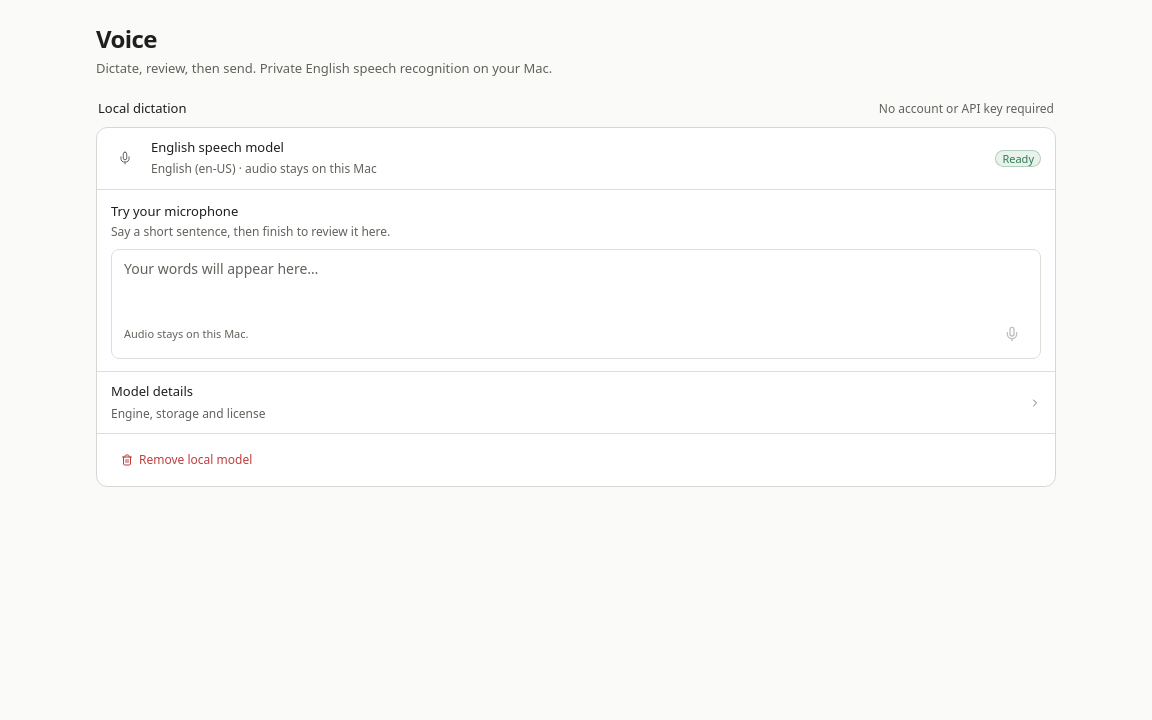
Test: refreshes composer availability when installed speech is discovered on opening settings
Check: the text "sherpa-onnx" is not shown
Click the button "Model details Engine, storage and license". click: [152, 391]
box: [97,372,1055,434]
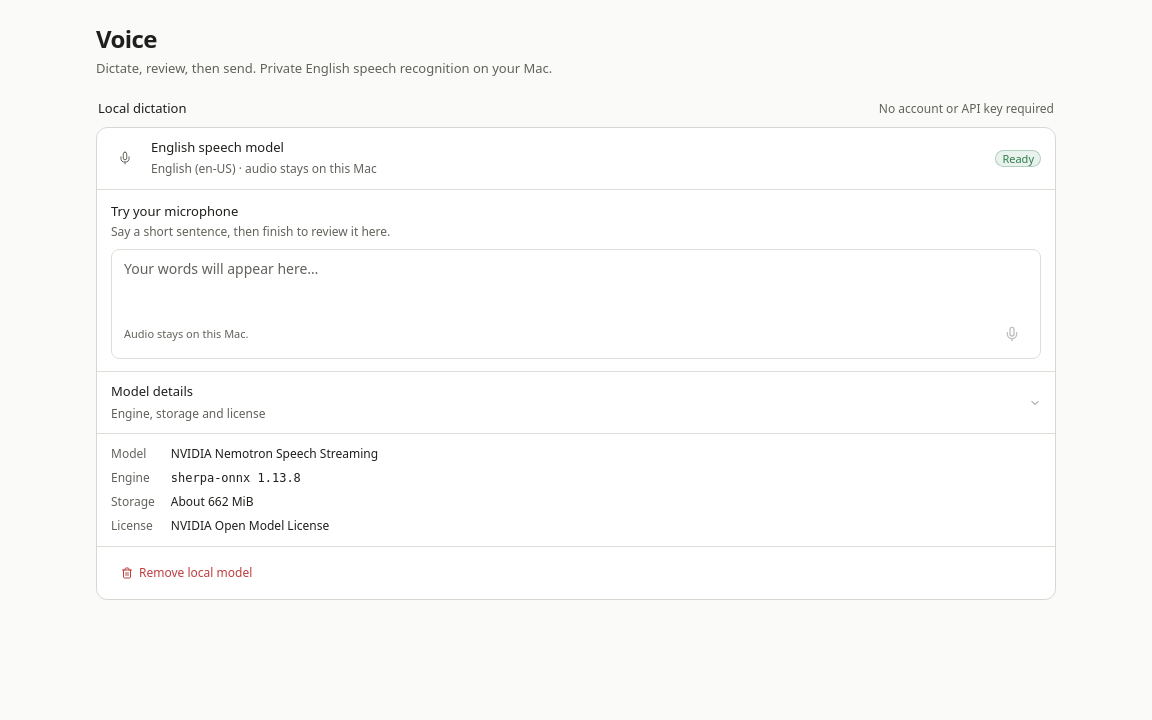
Check: the text "sherpa-onnx 1.13.8" is shown, box [171,471,301,485]
